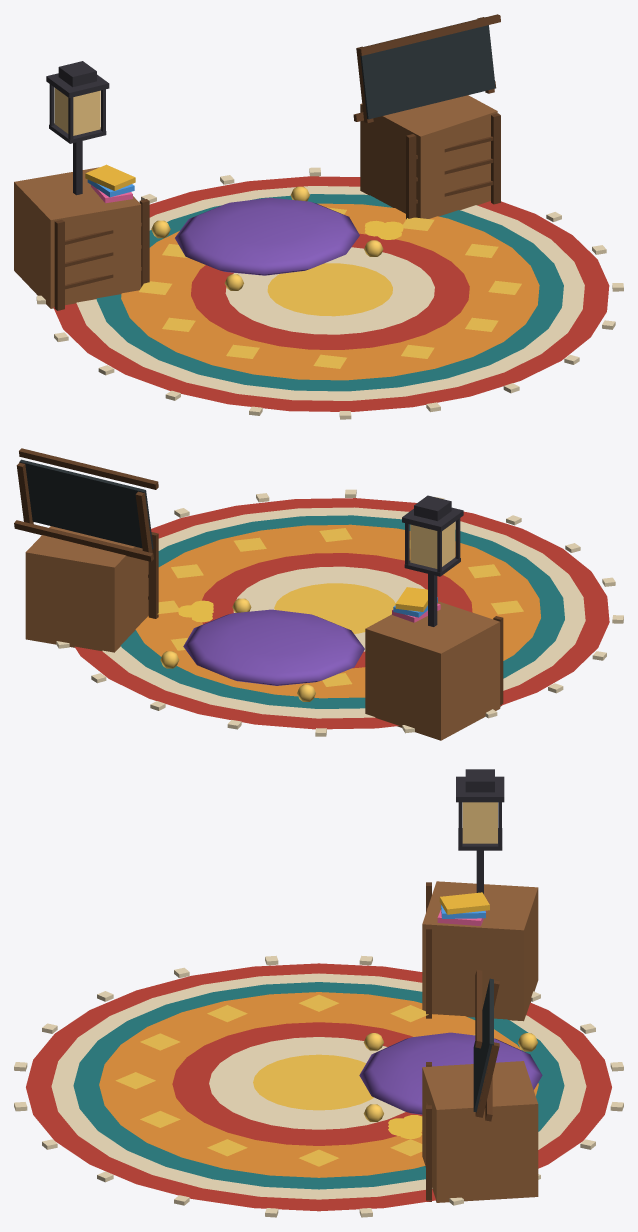
The model's file is TurtsRug.fbx.
The picture shows the model from 3 angles, top to bottom: view 1: azimuth 30°, elevation 25°; view 2: azimuth 150°, elevation 25°; view 3: azimuth 270°, elevation 25°; orthographic projection. The views are drawn at different scales.
Parts seen in each view (by area): view 1: Frame, Sign, Glow; view 2: Frame, Sign, Glow; view 3: Frame, Glow, Sign.
Boxes of the visible parts, x1,y1,x2,y2 form: Frame: (14,14,623,419); Sign: (360,17,495,119); Glow: (54,88,100,135); Frame: (14,448,623,740); Sign: (19,459,153,549); Glow: (410,522,455,568); Frame: (14,769,623,1217); Glow: (462,802,497,843); Sign: (473,978,493,1112).
Size of the model in its own units: 8.32 by 3.36 by 8.32.
Materials: 1 (1 with a texture image).
